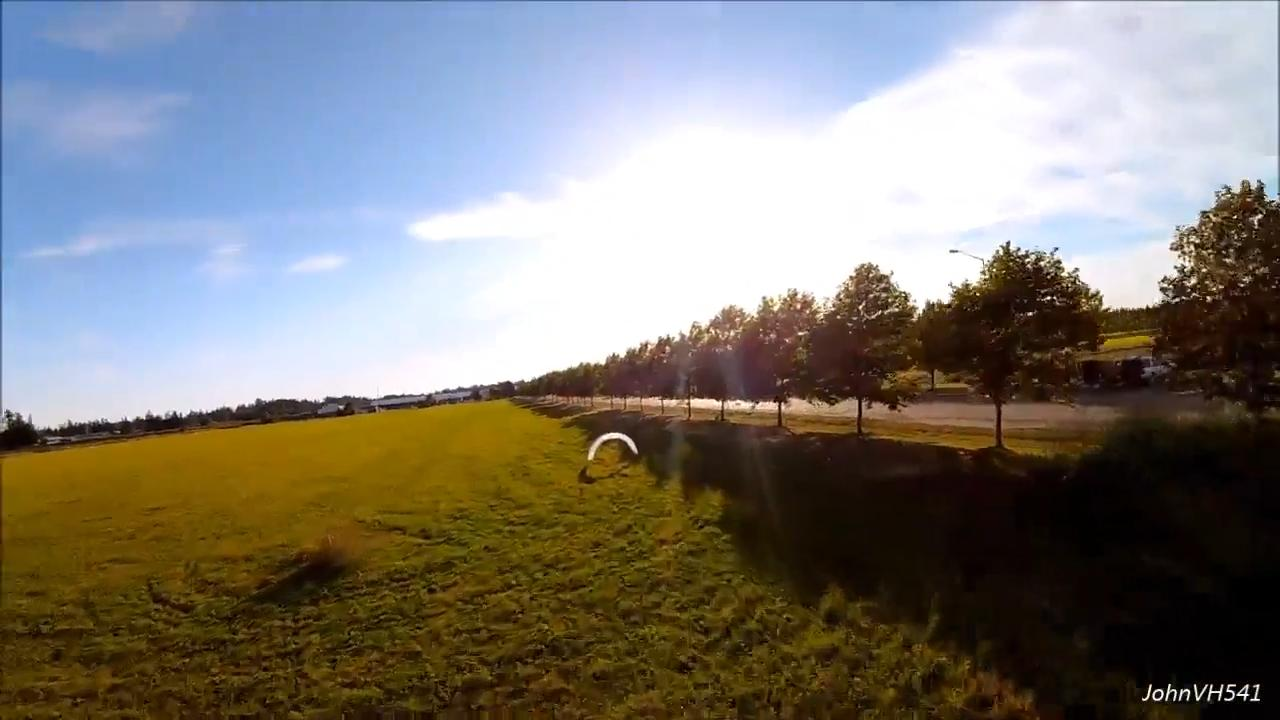gate: (589, 431, 640, 468)
